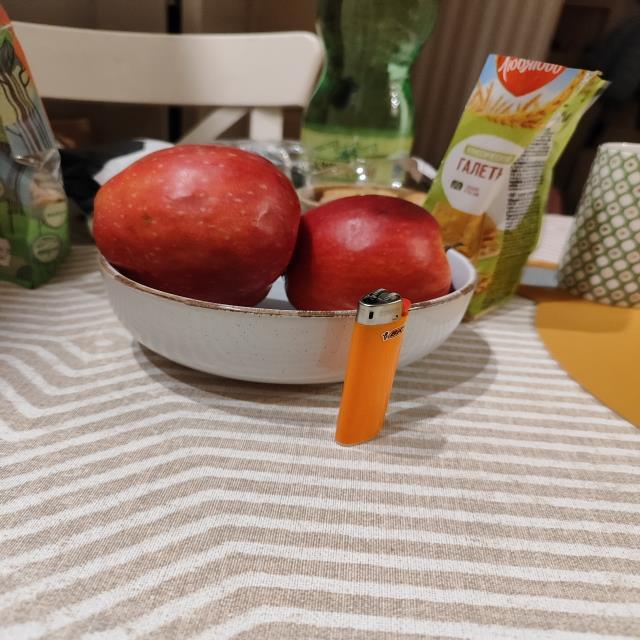lighter: (335, 289, 409, 444)
